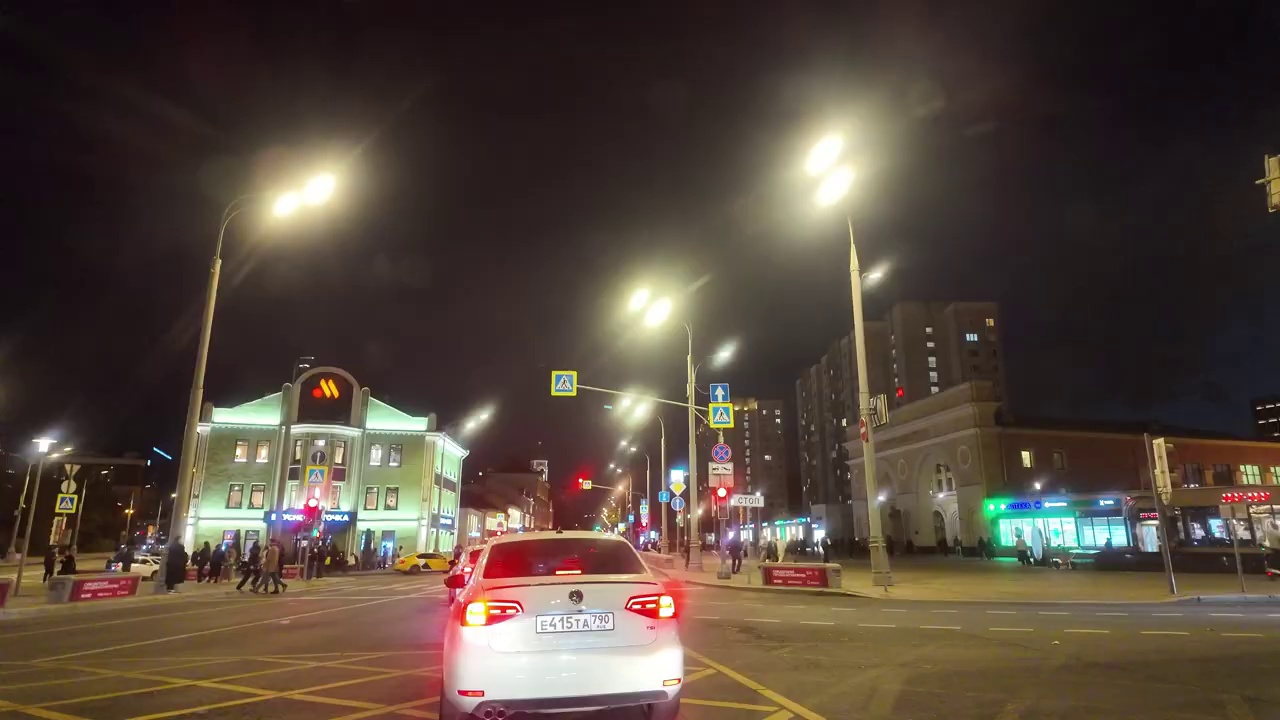acesa: (796, 125, 871, 211), (260, 169, 339, 231), (620, 279, 685, 341), (456, 402, 496, 444), (707, 339, 743, 374)
